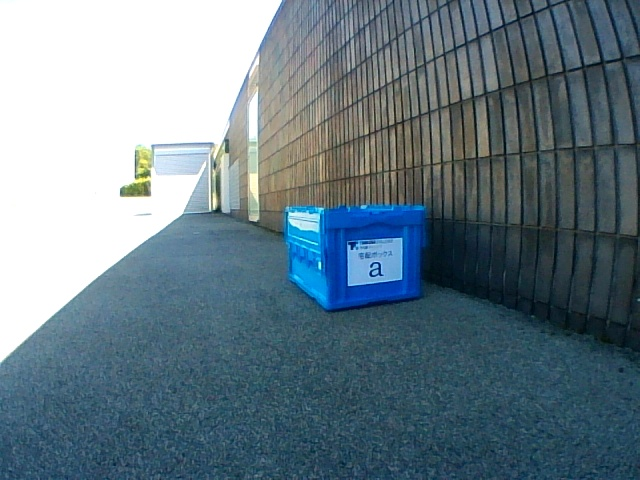blue_box: (285, 205, 423, 309)
tag_a: (351, 243, 398, 279)
